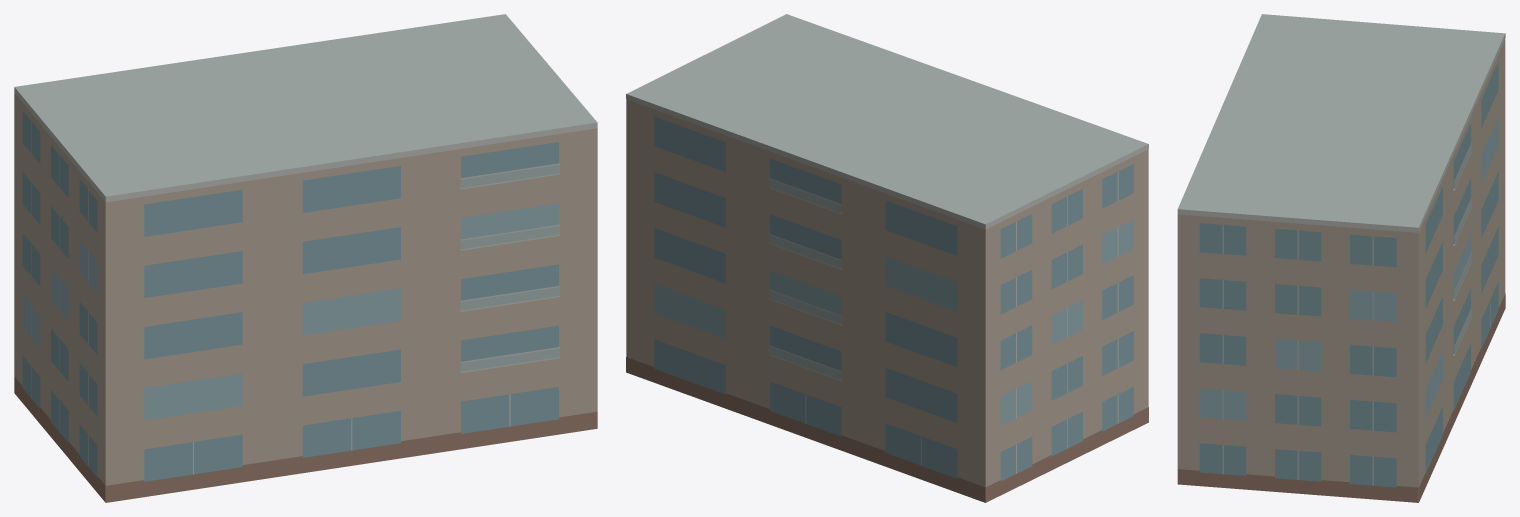
The model's file is survey-upis-32707848.glb.
3 renders of one model, left to right at view 1: azimuth 30°, elevation 25°; view 2: azimuth 150°, elevation 25°; view 3: azimuth 270°, elevation 25°, orthographic. The views are drawn at different scales.
Parts seen in each view (by area): view 1: survey-upis-32707848.tmp; view 2: survey-upis-32707848.tmp; view 3: survey-upis-32707848.tmp.
Boxes of the visible parts, x1,y1,x2,y2 form: survey-upis-32707848.tmp: [14, 14, 597, 502]; survey-upis-32707848.tmp: [626, 14, 1148, 502]; survey-upis-32707848.tmp: [1177, 14, 1505, 502].
Bounding box in the file's own units: 21.83 × 13.1 × 14.15.
